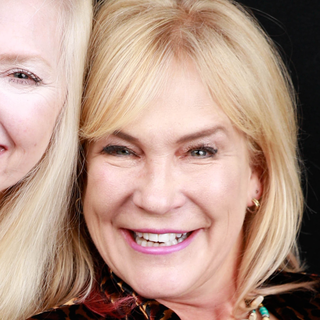eye: (1, 64, 45, 93), (174, 141, 224, 164), (95, 140, 141, 162)
